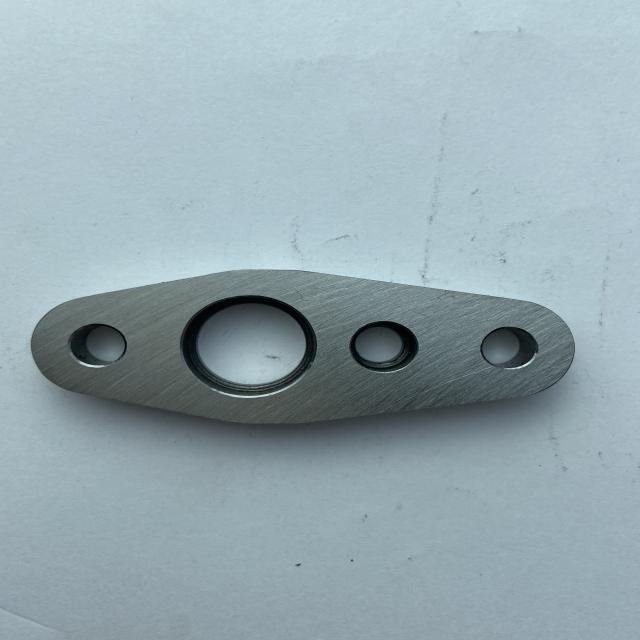chap: (449, 294, 457, 299)
